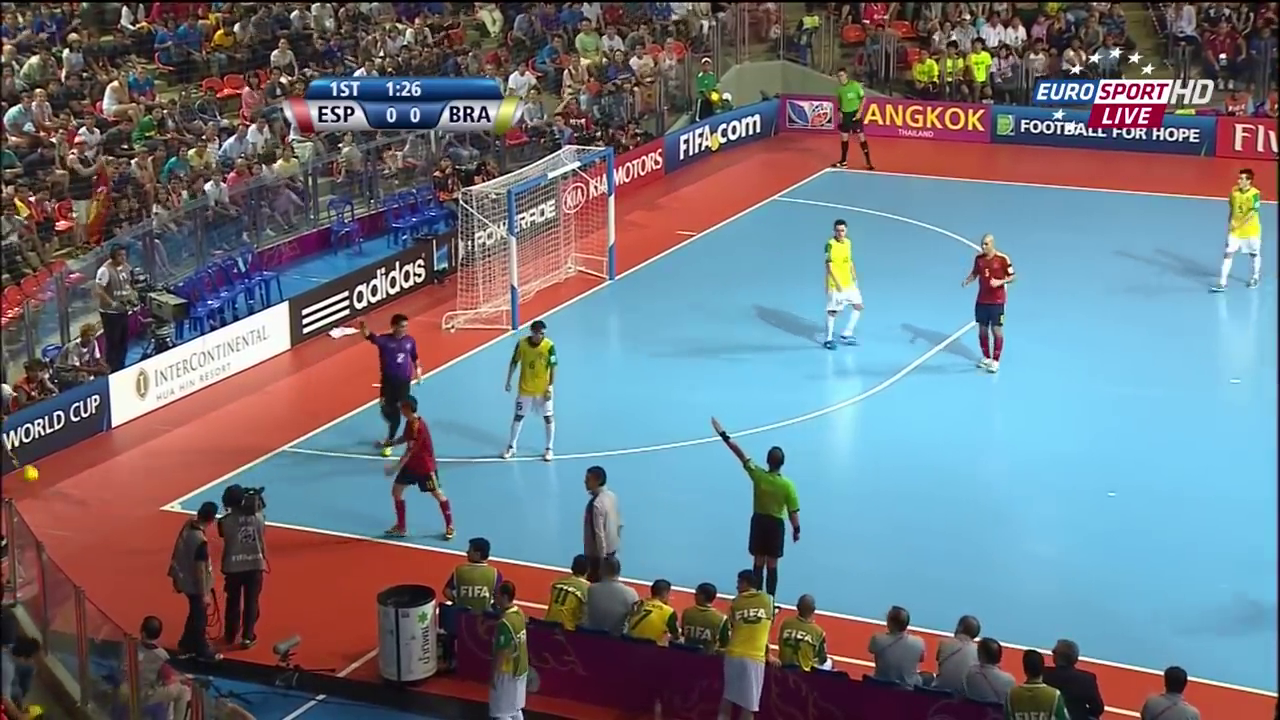ball: (499, 317, 548, 462), (15, 462, 43, 484)
person: (381, 391, 455, 538), (354, 310, 422, 458), (958, 231, 1015, 370), (1210, 170, 1265, 294), (819, 215, 865, 355)
